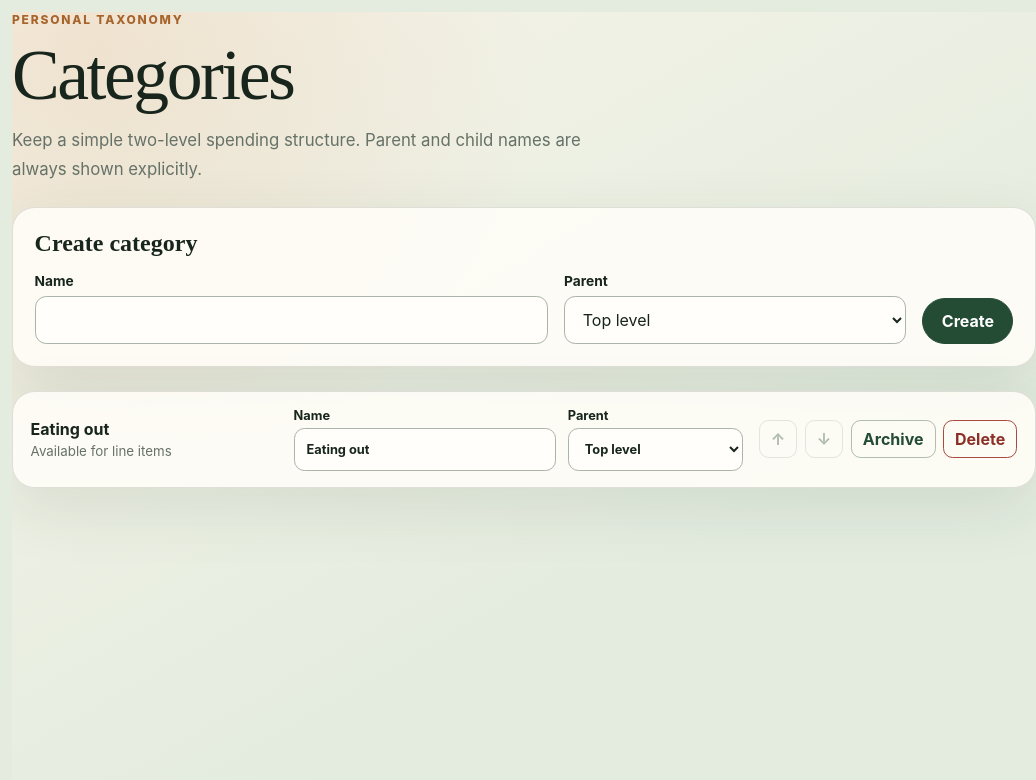
Test case: category controls › distinguishes empty, validation, unknown, and offline create failures
The width and height of the screenshot is (1036, 780).
Check: the text "Eating out" is shown, box [31,419,109,439]
Click the button "Create". click: (968, 321)
box: [922,298,1014,344]
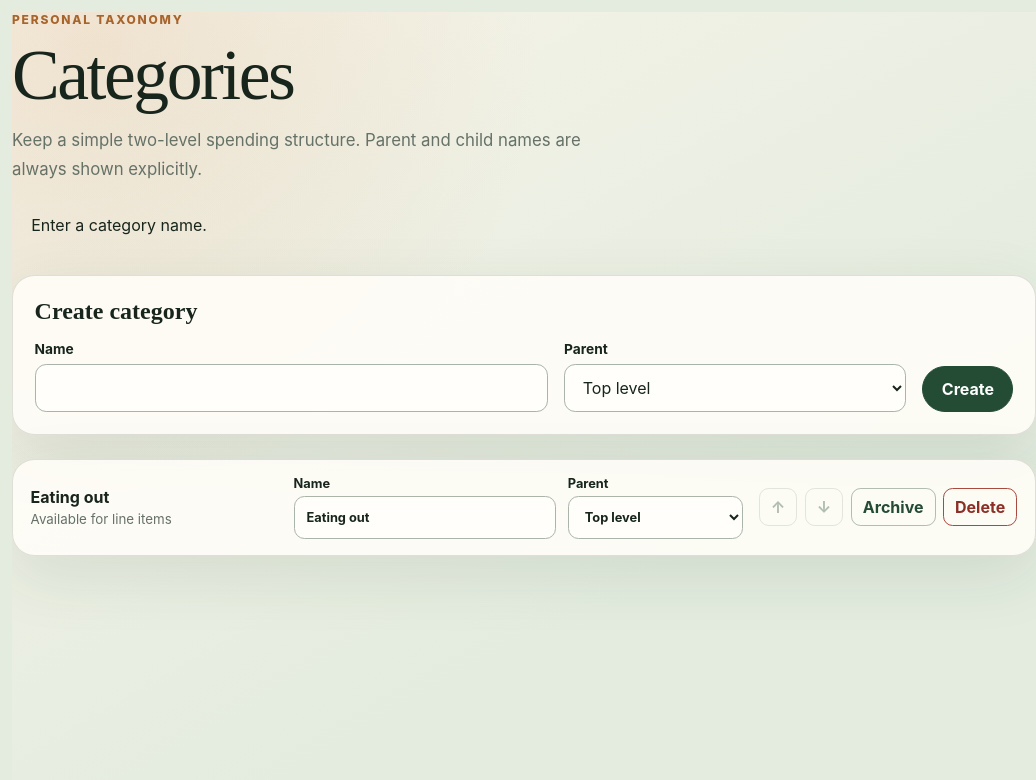
Check: the text "Enter a category name." is shown, box [31,215,207,235]
Type "New" into the field labelled "Name" below "Create category". click: (291, 388)
box: [35,364,548,412]
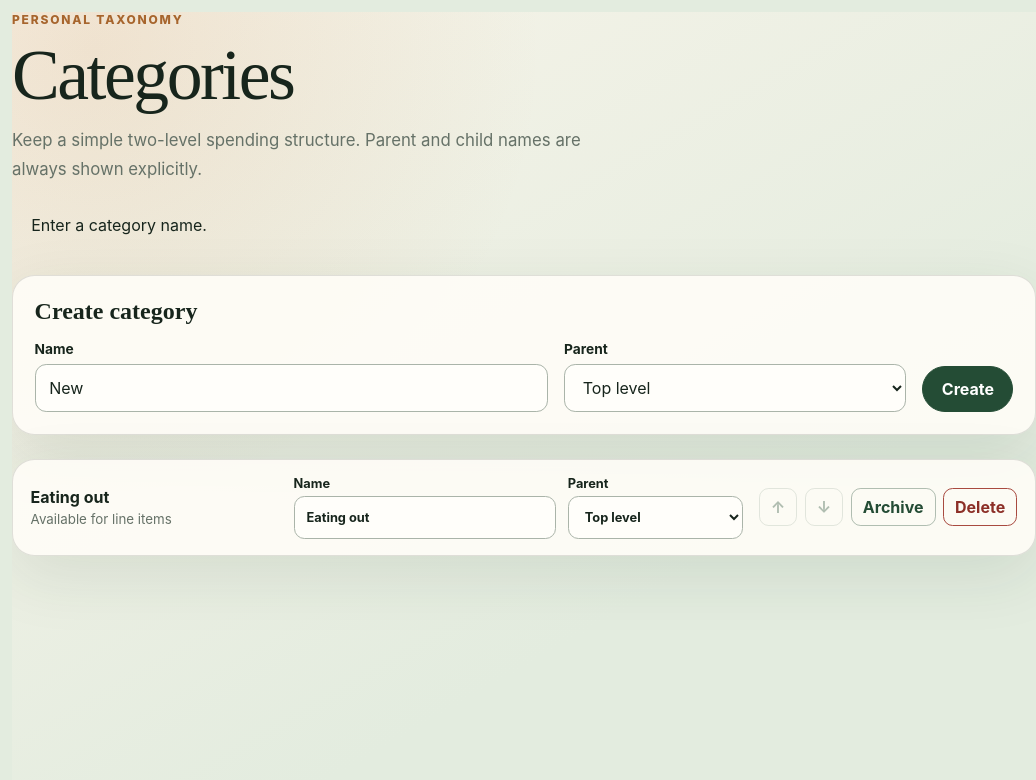
Click the button "Create". click: (968, 389)
box: [922,366,1014,412]
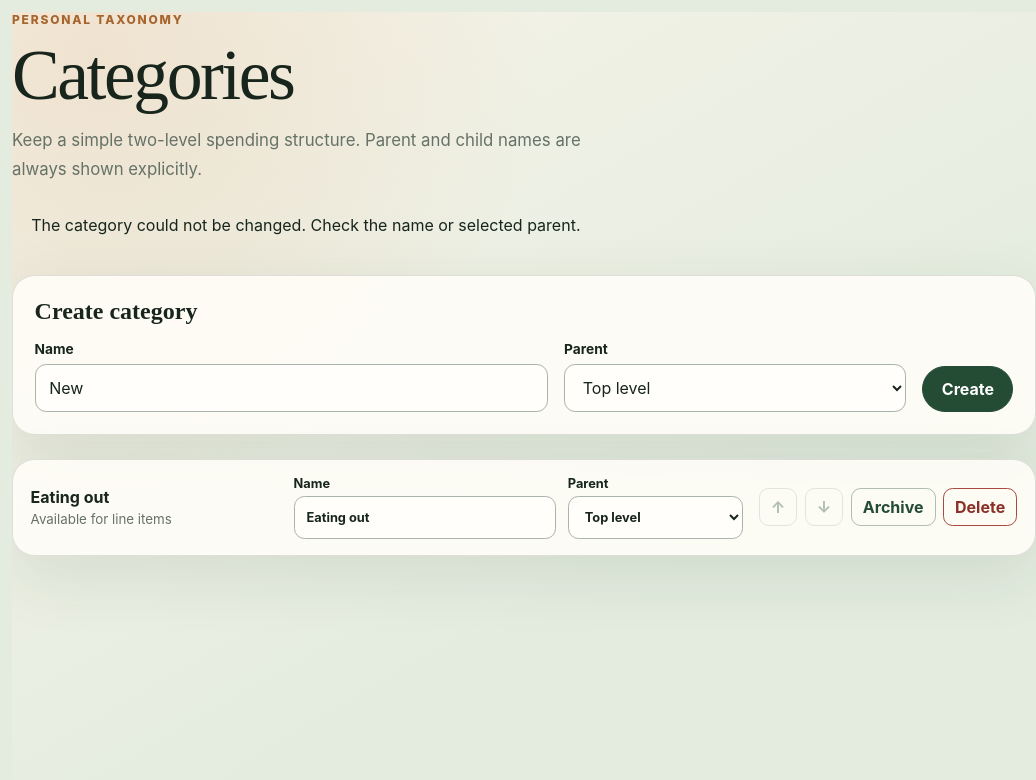
Check: the text "The category could not be changed. Check the name or selected parent." is shown, box [31,215,580,235]
Click the button "Create". click: (968, 389)
box: [922,366,1014,412]
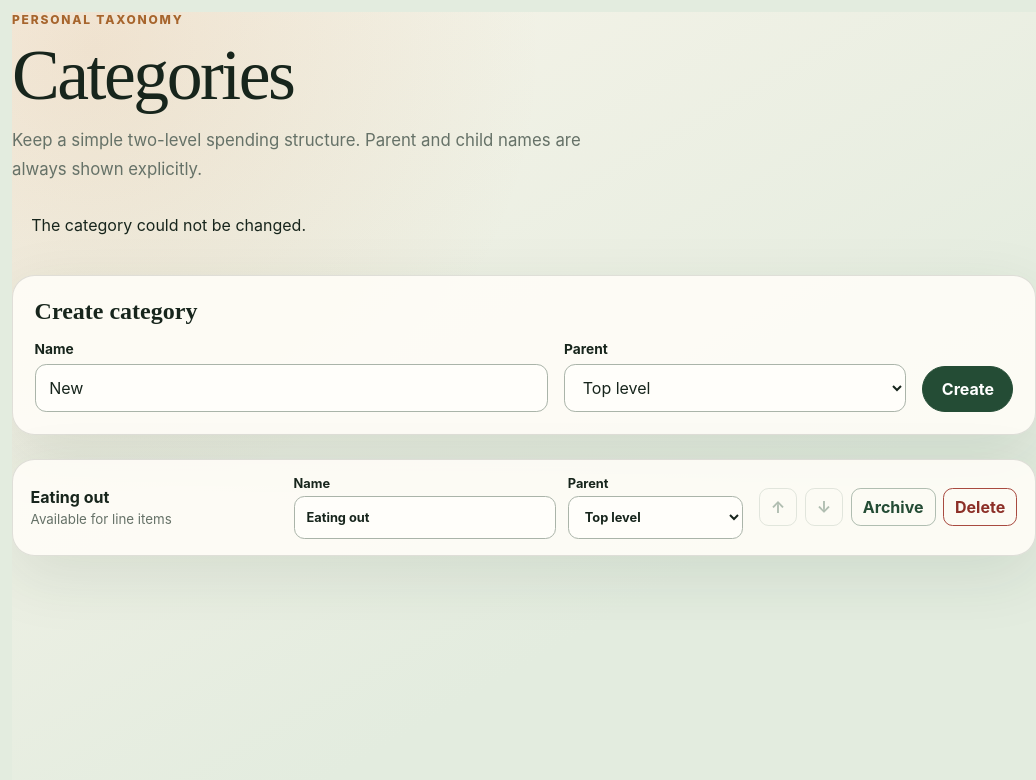
Check: the text "The category could not be changed." is shown, box [31,215,306,235]
Click the button "Create". click: (968, 389)
box: [922,366,1014,412]
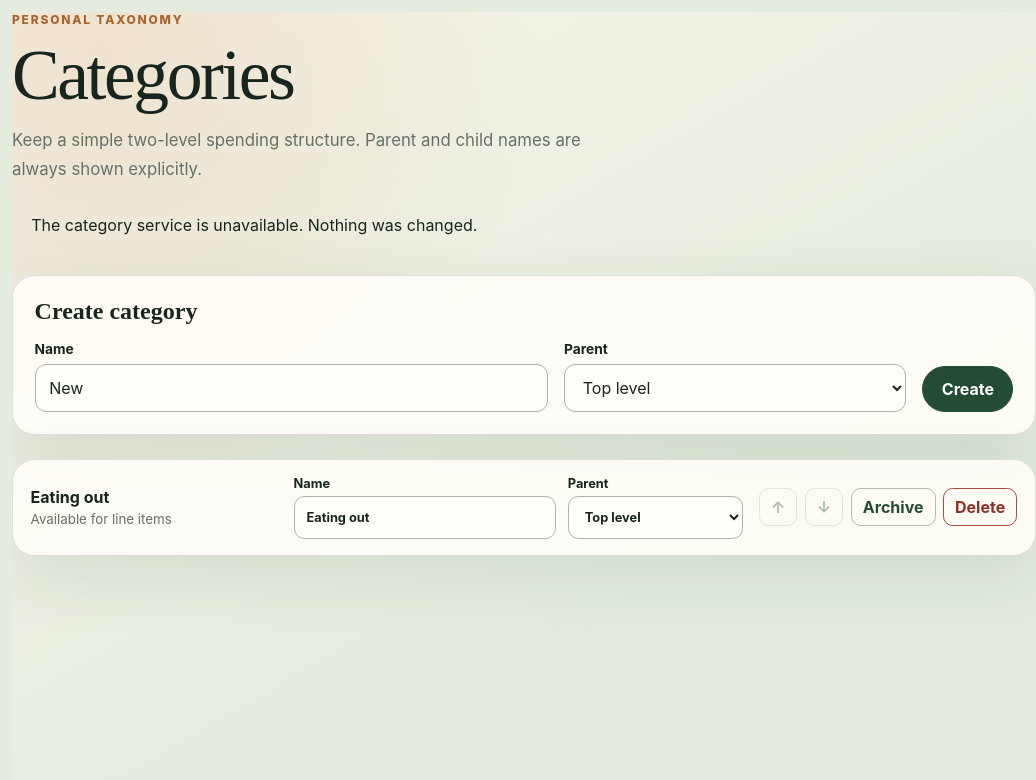
Check: the text "The category service is unavailable. Nothing was changed." is shown, box [31,215,477,235]
